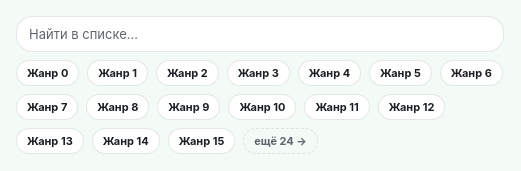
выбор из справочника › чего нет в справочнике — не завести, и это объясняется
The image size is (521, 171).
Type "мой особенный жанр" into the field with placeholder "Найти в списке…" at point(260, 34), box 16,16 -> 504,52
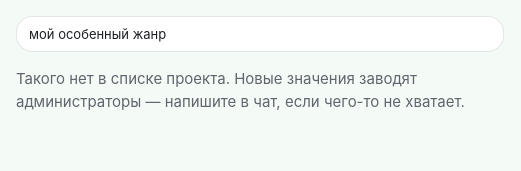
Expected: the text "Новые значения заводят администраторы" is shown, 16,69 -> 465,110
